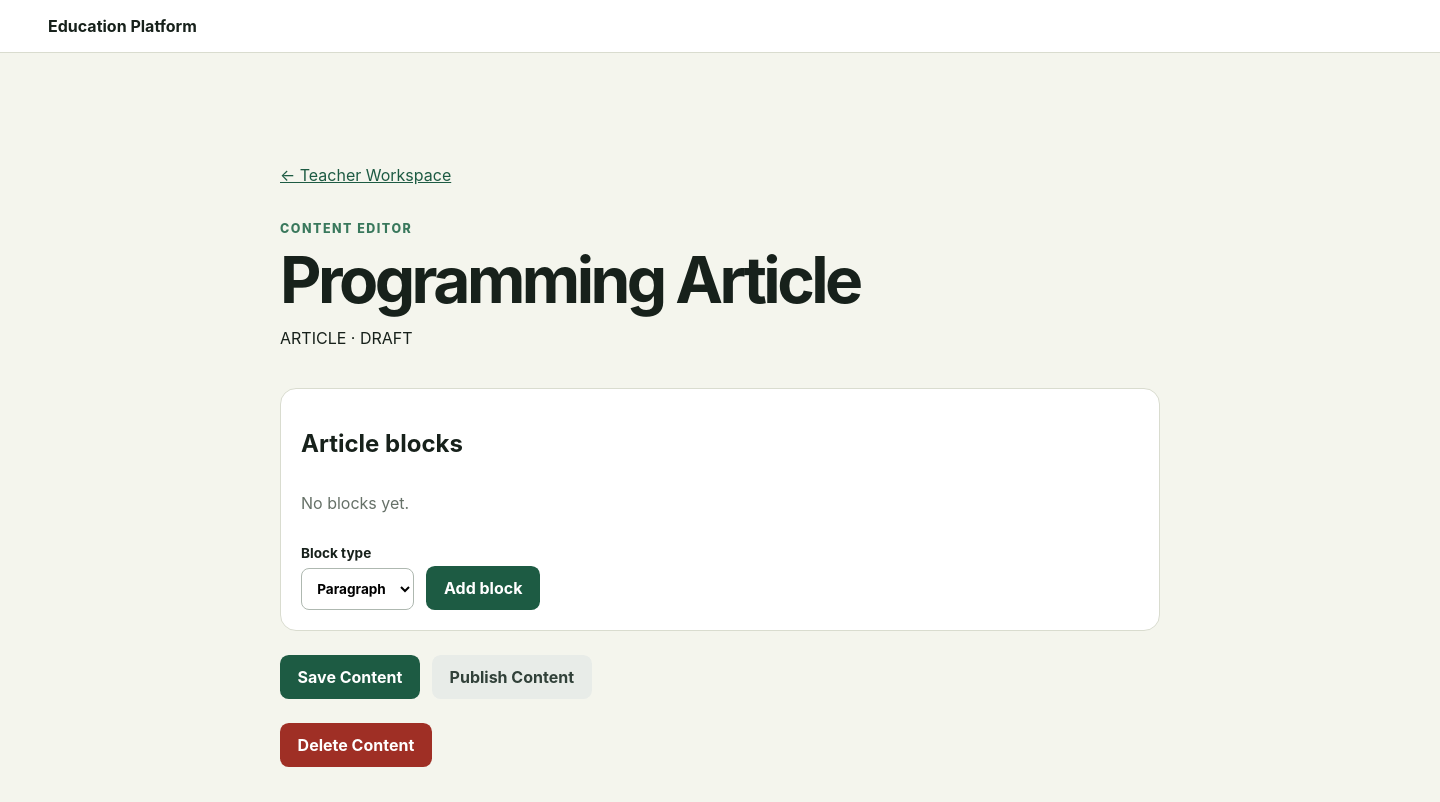
Test: Content Editor Foundation › surfaces backend save errors
Click the button "Save Content".
click(350, 677)  # box [280,655,420,699]
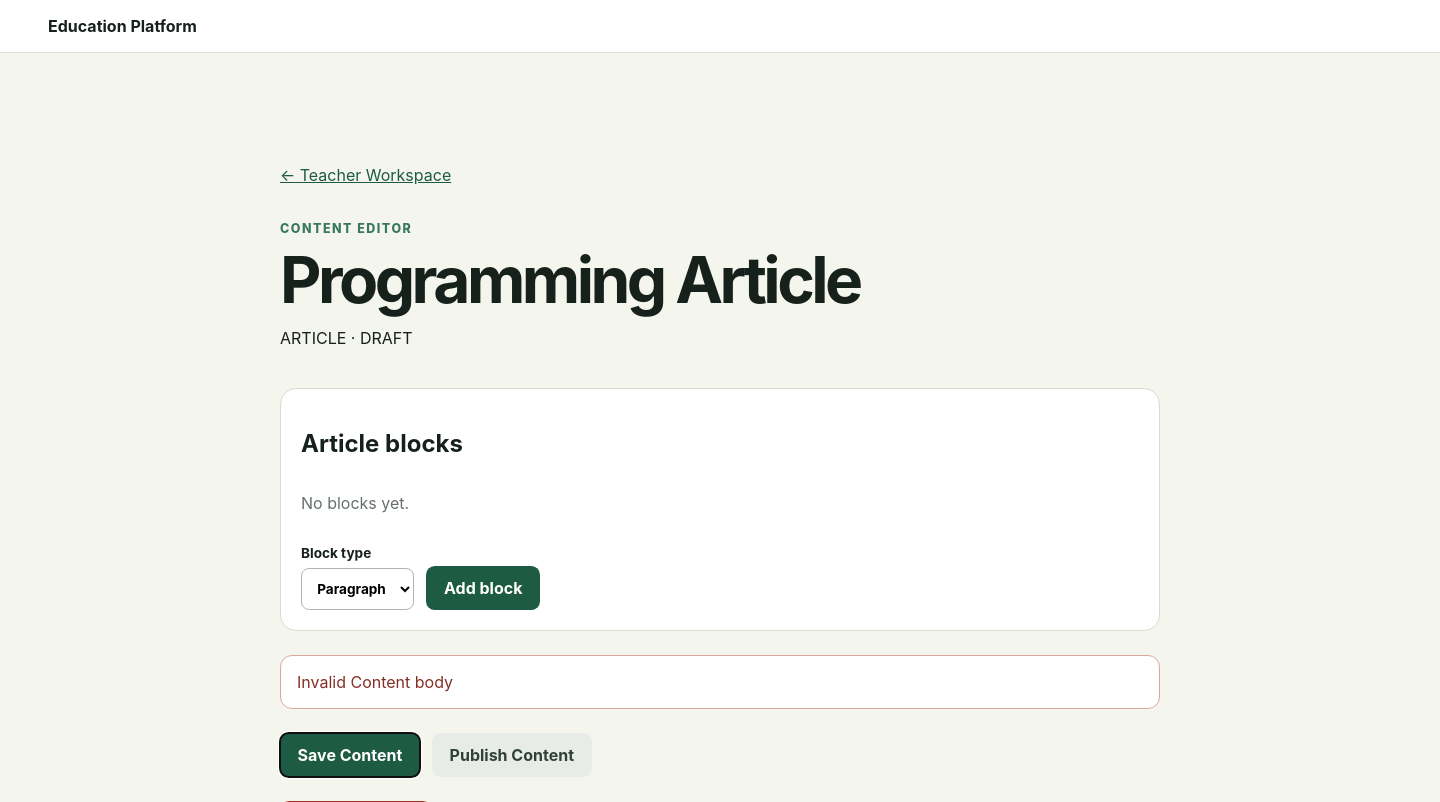
Expected: the message reads "Invalid Content body", [297,672,453,692]
